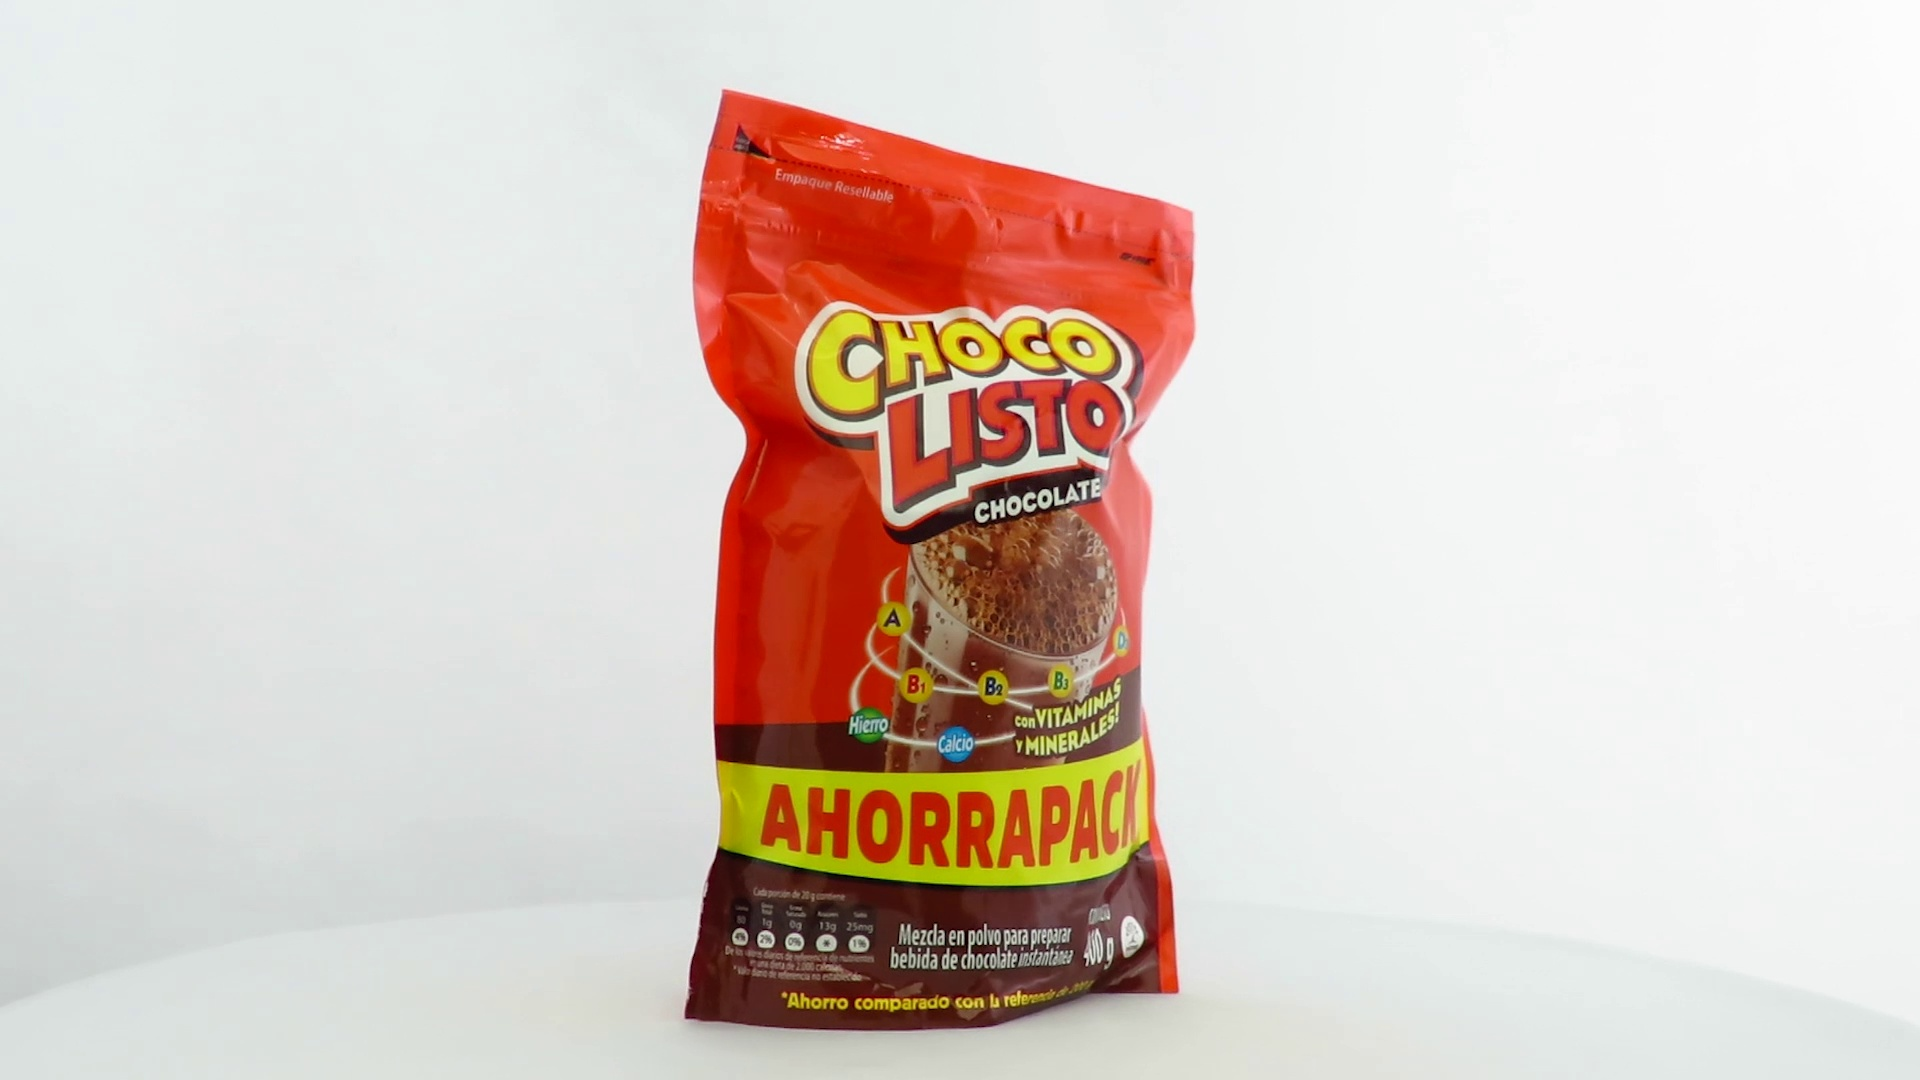COL0170103DYP40000: (679, 84, 1203, 1036)
